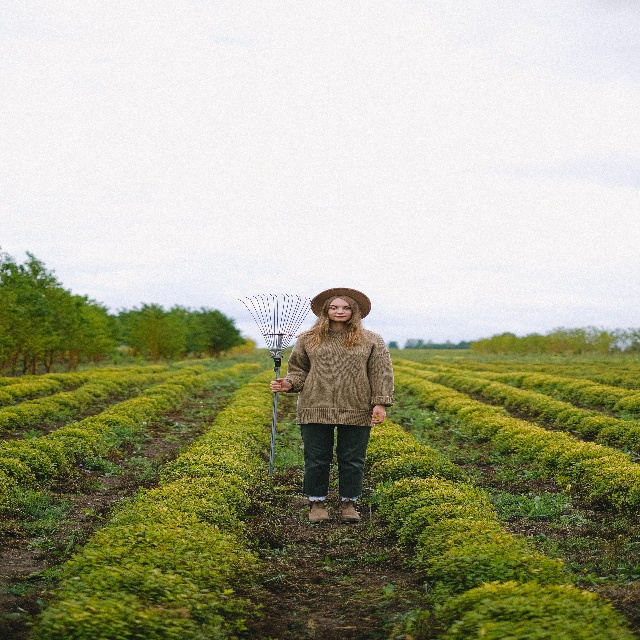Sin_guantes: (269, 375, 291, 394), (371, 401, 386, 424)
